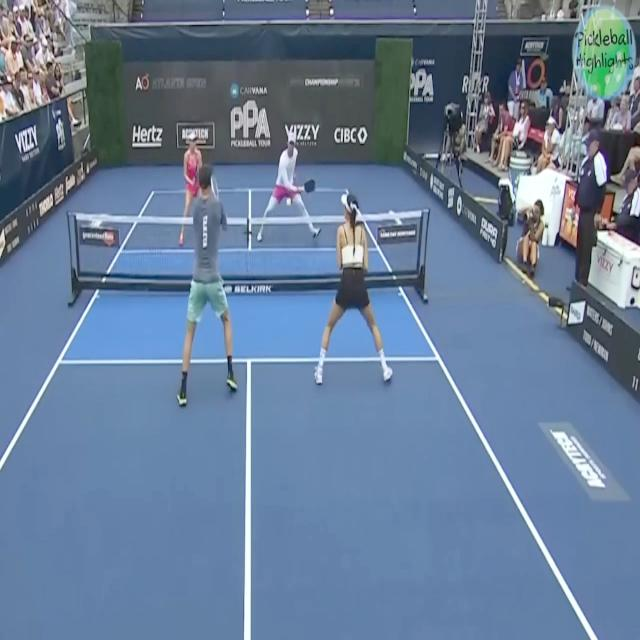Pickleball: (286, 194, 292, 210)
